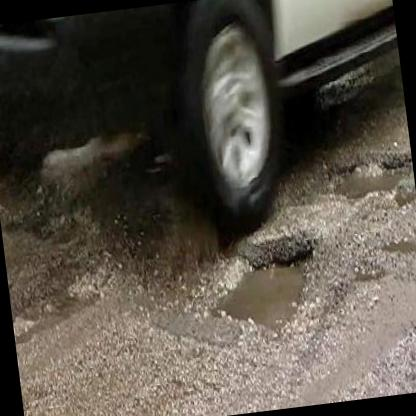pothole: (194, 232, 322, 344), (322, 146, 416, 220), (350, 252, 385, 284), (378, 233, 416, 257), (403, 364, 416, 391)
